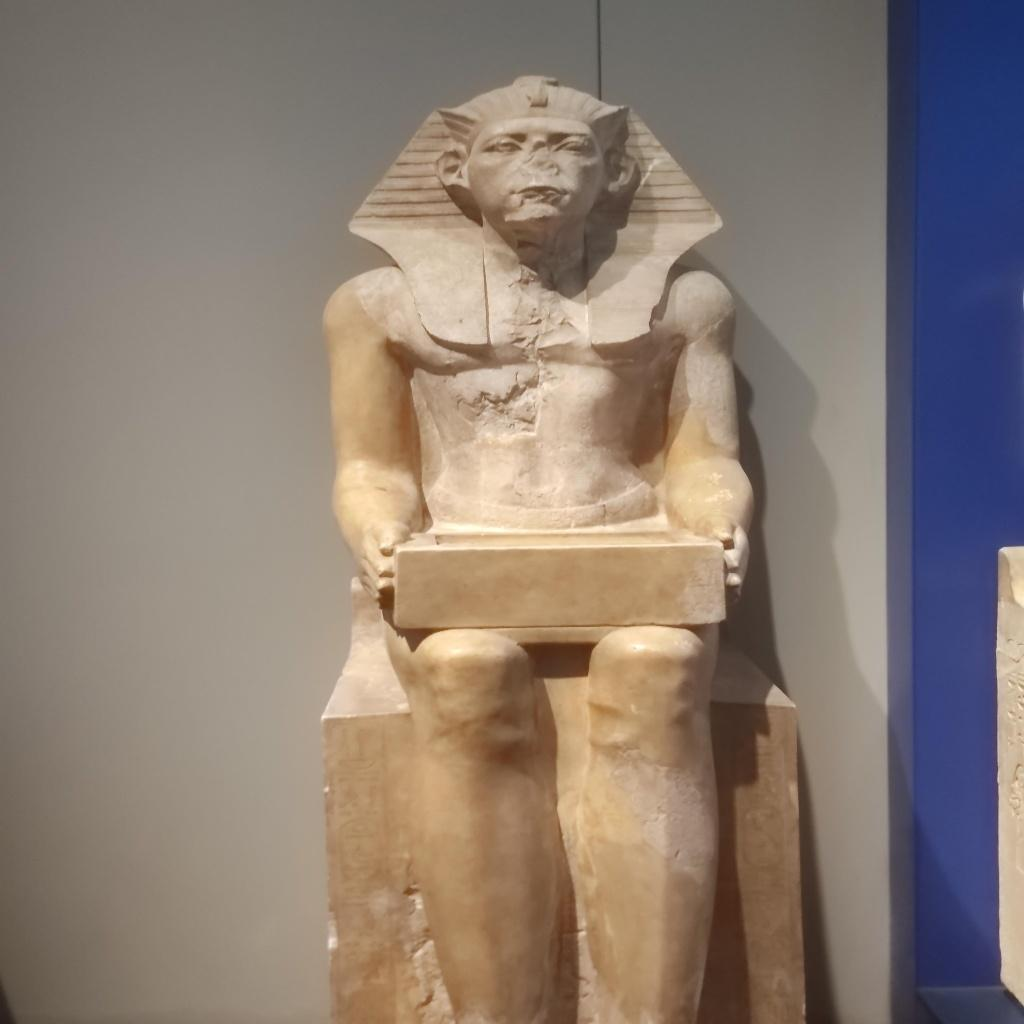Amenhotep III with Plate: (321, 68, 760, 1015)
